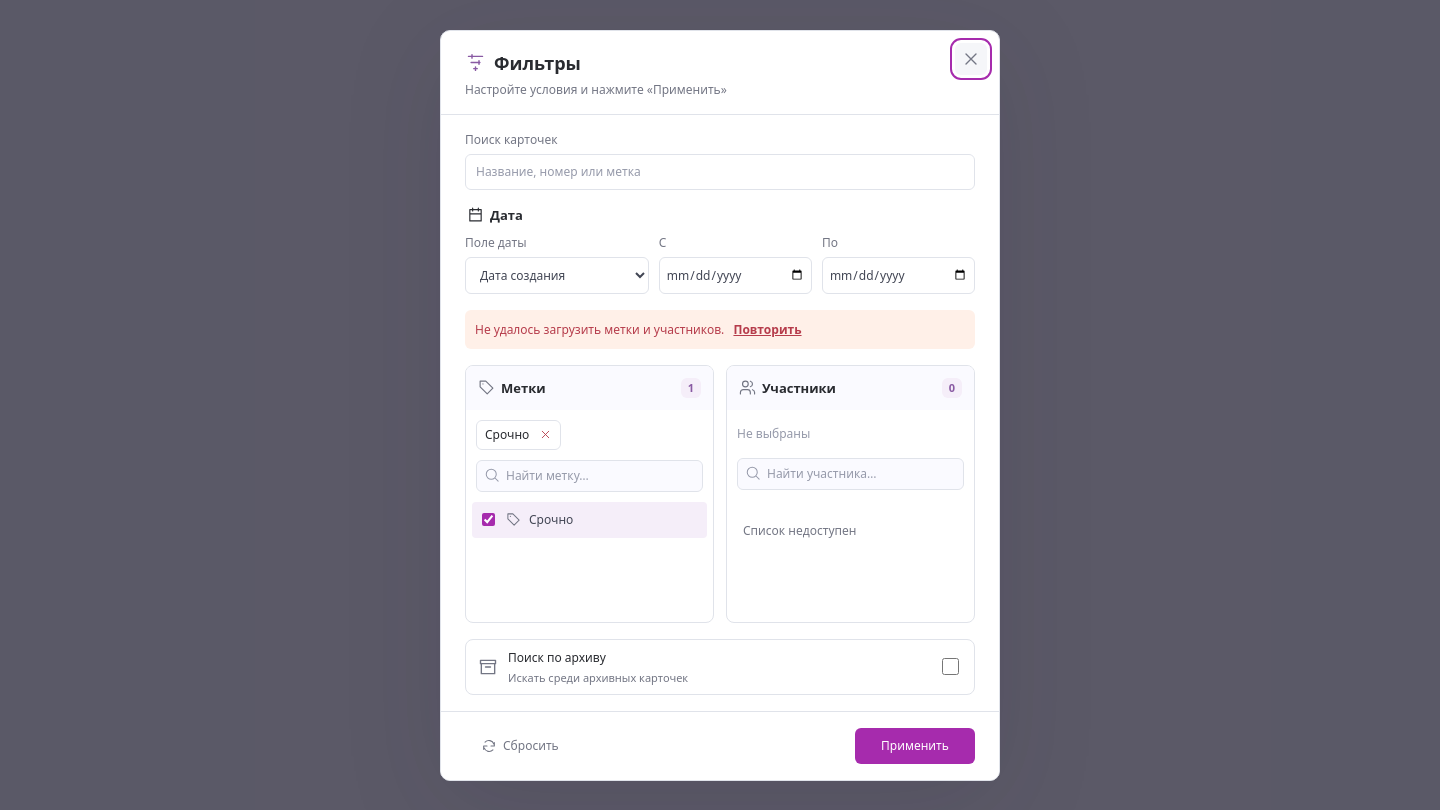
Scenario: keeps selected filters removable when loading fails and retries the catalog
The width and height of the screenshot is (1440, 810).
Expected: the message shows "Не удалось загрузить", [475, 320, 724, 338]
Click the button named "Убрать фильтр «Метка: Срочно»" at (545, 434), box [533, 422, 557, 446]
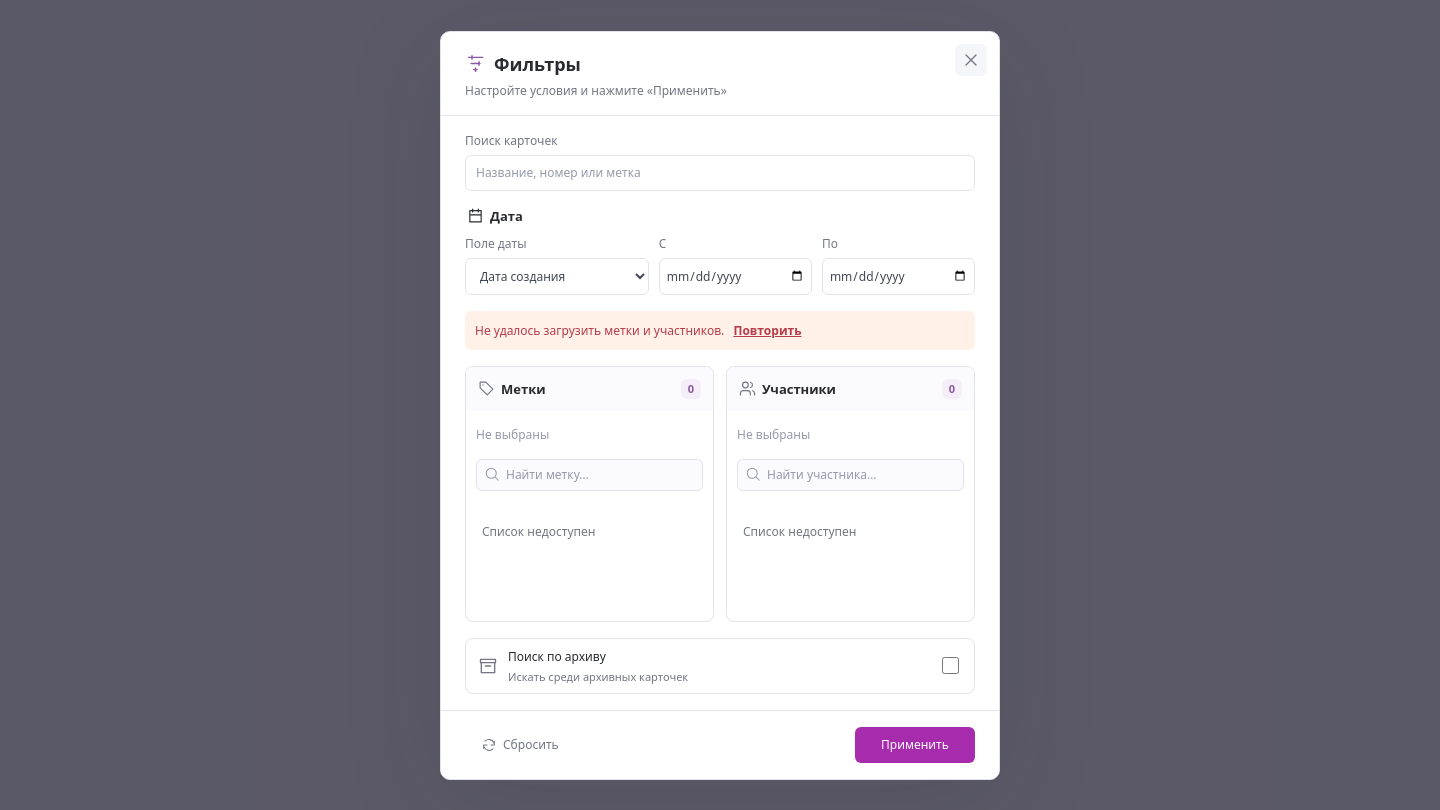
Click the button "Повторить" at (767, 330), box [727, 320, 808, 340]
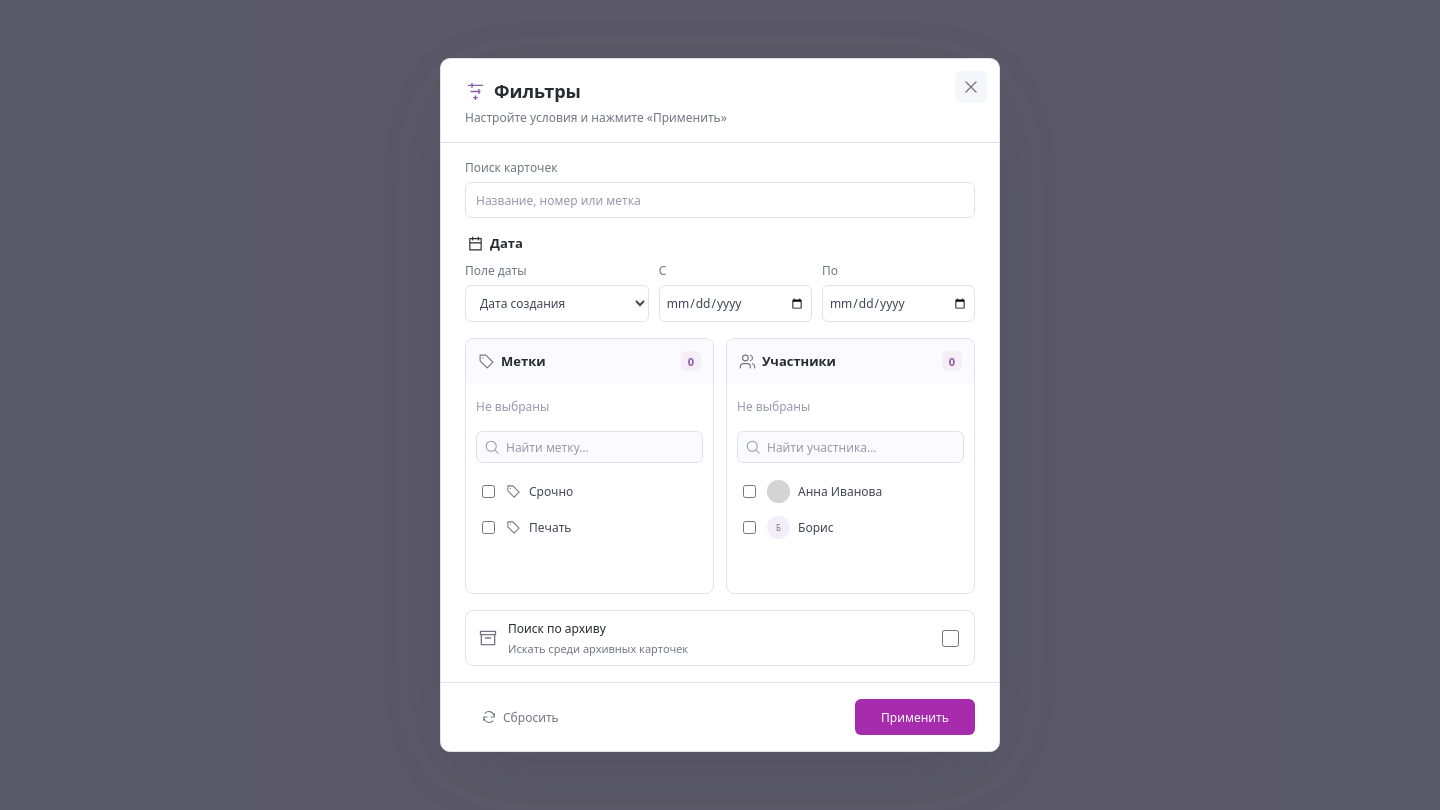
Result: the checkbox labelled "Анна Иванова" is shown at [743, 484, 756, 498]
Result: the message "Не удалось загрузить метки и участников. Повторить" is gone
